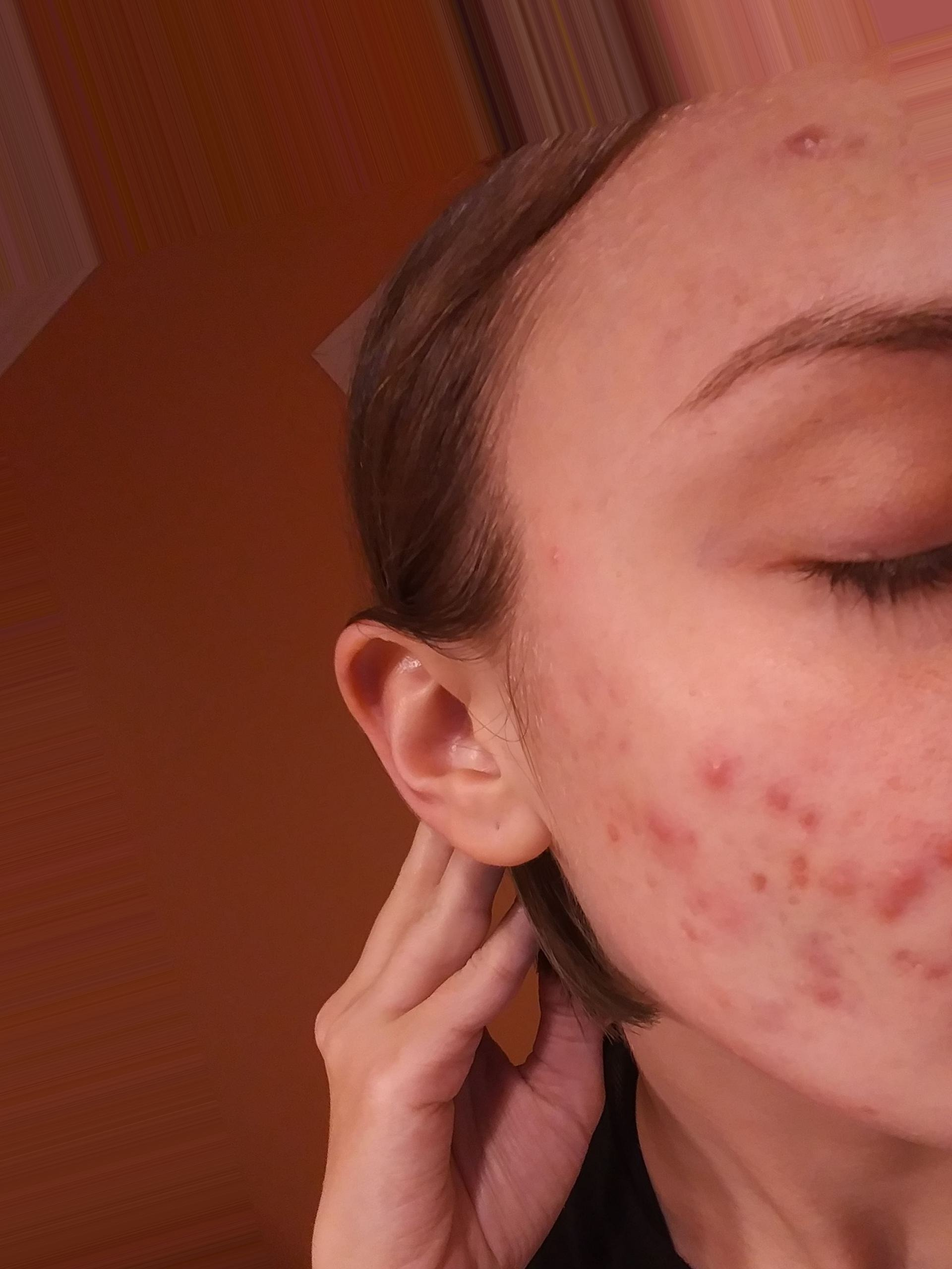Acne: (572, 691, 948, 1056)
